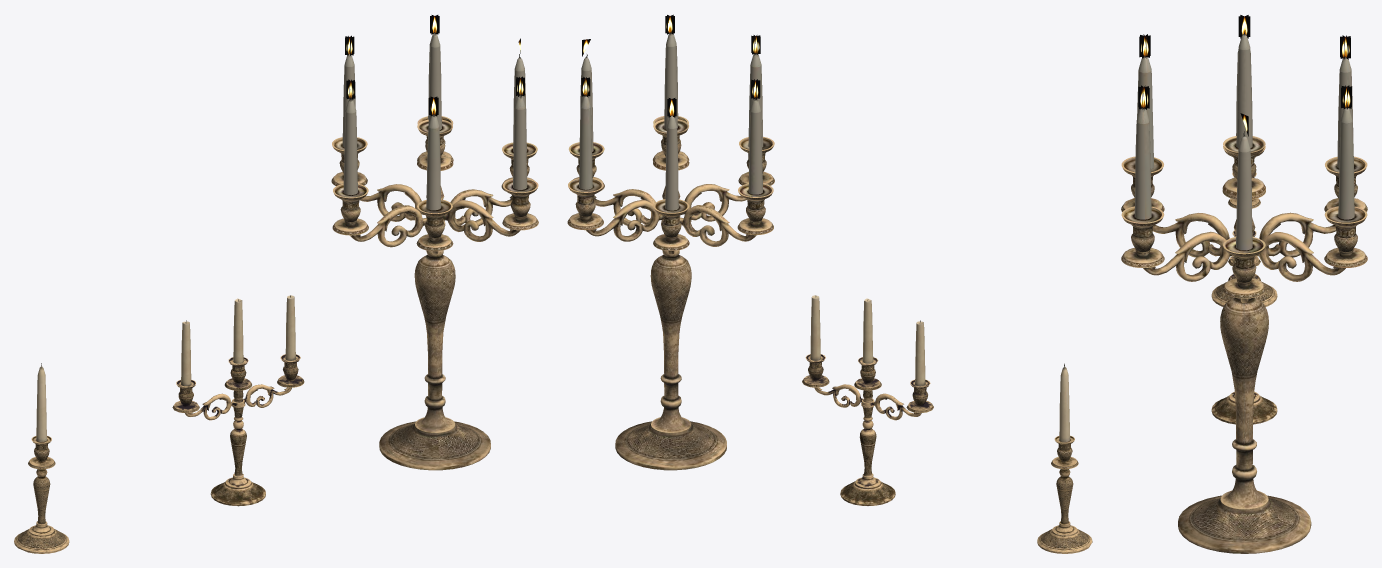
File: candleholders-brass.a4628fcc.glb
The picture shows the model from 3 angles, left to right: view 1: azimuth 30°, elevation 25°; view 2: azimuth 150°, elevation 25°; view 3: azimuth 270°, elevation 25°; orthographic projection. The views are drawn at different scales.
Parts seen in each view (by area): view 1: model; view 2: model; view 3: model.
Part boxes in pixels (x1,y1,x2,y2): model: (14,15,538,553); model: (567,14,1092,553); model: (1121,15,1367,553).
Size of the model in its own units: 1.05 by 0.8093 by 0.3647.
Materials: 5 (5 with a texture image).
